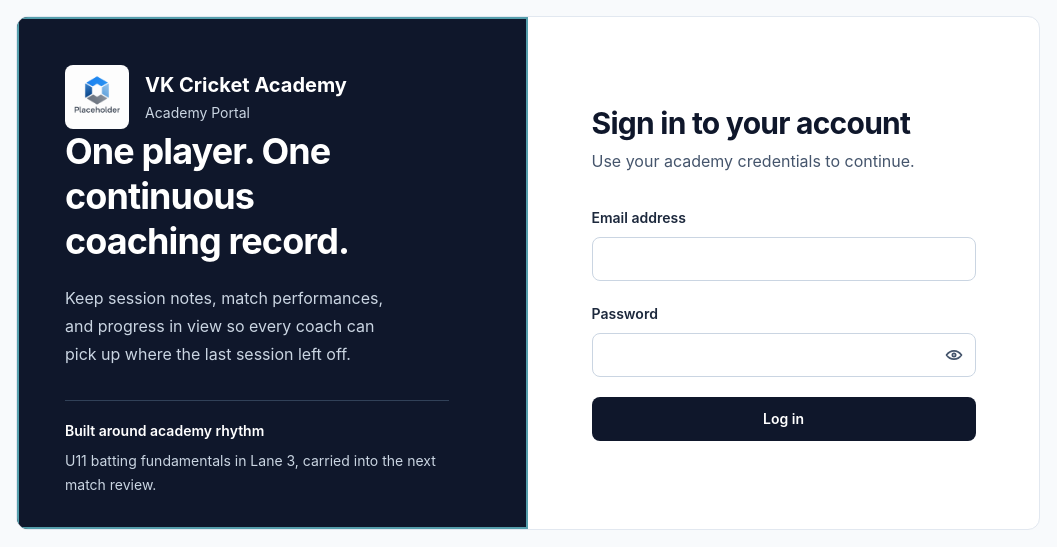
Test case: LoginPage › shows the generic credential error for an unauthorized response
Type "coach@vkca.test" into the field labelled "Email address" at point(784, 259), box [592,237,976,281]
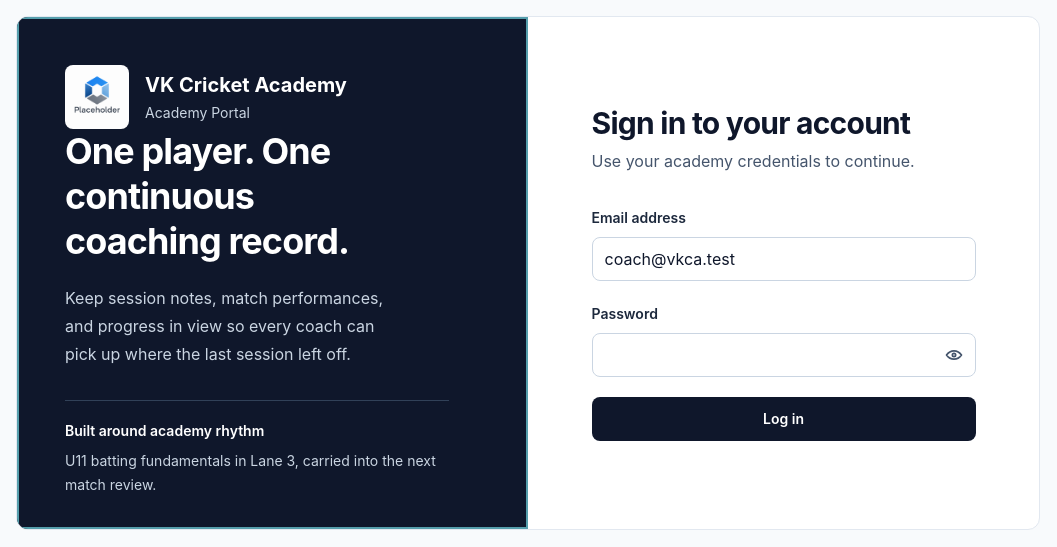
Type "WrongPassword!1" into the password field labelled "Password" at point(784, 355), box [592,333,976,377]
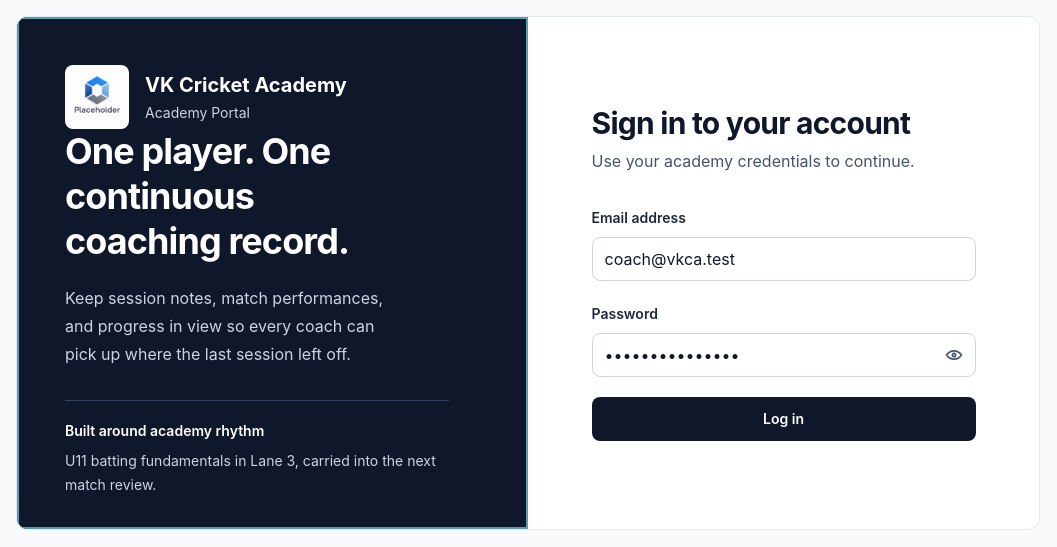
Click the button "Log in" at point(784, 419), box [592,397,976,441]
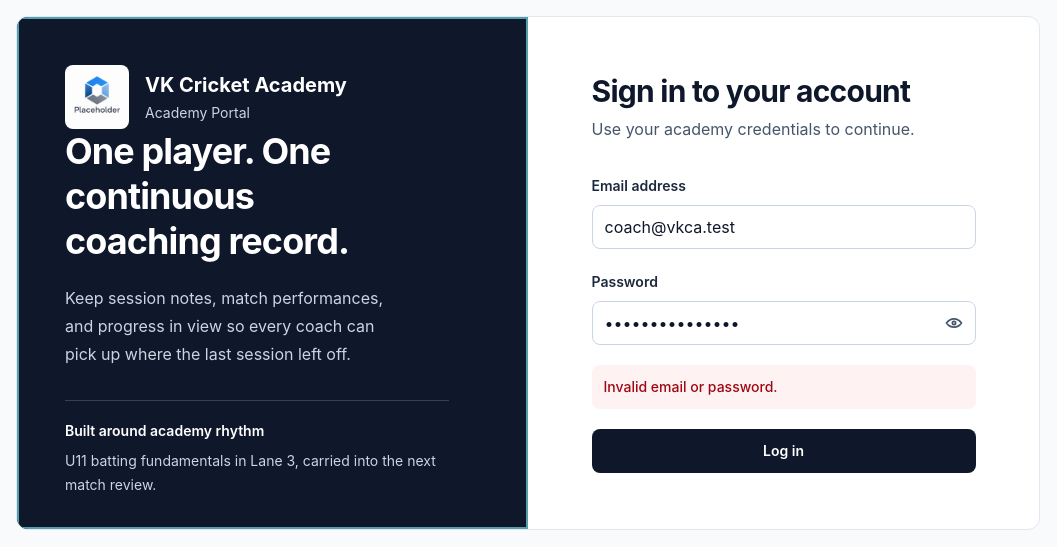
Check: the message reads "Invalid email or password.", box [604,378,778,395]
